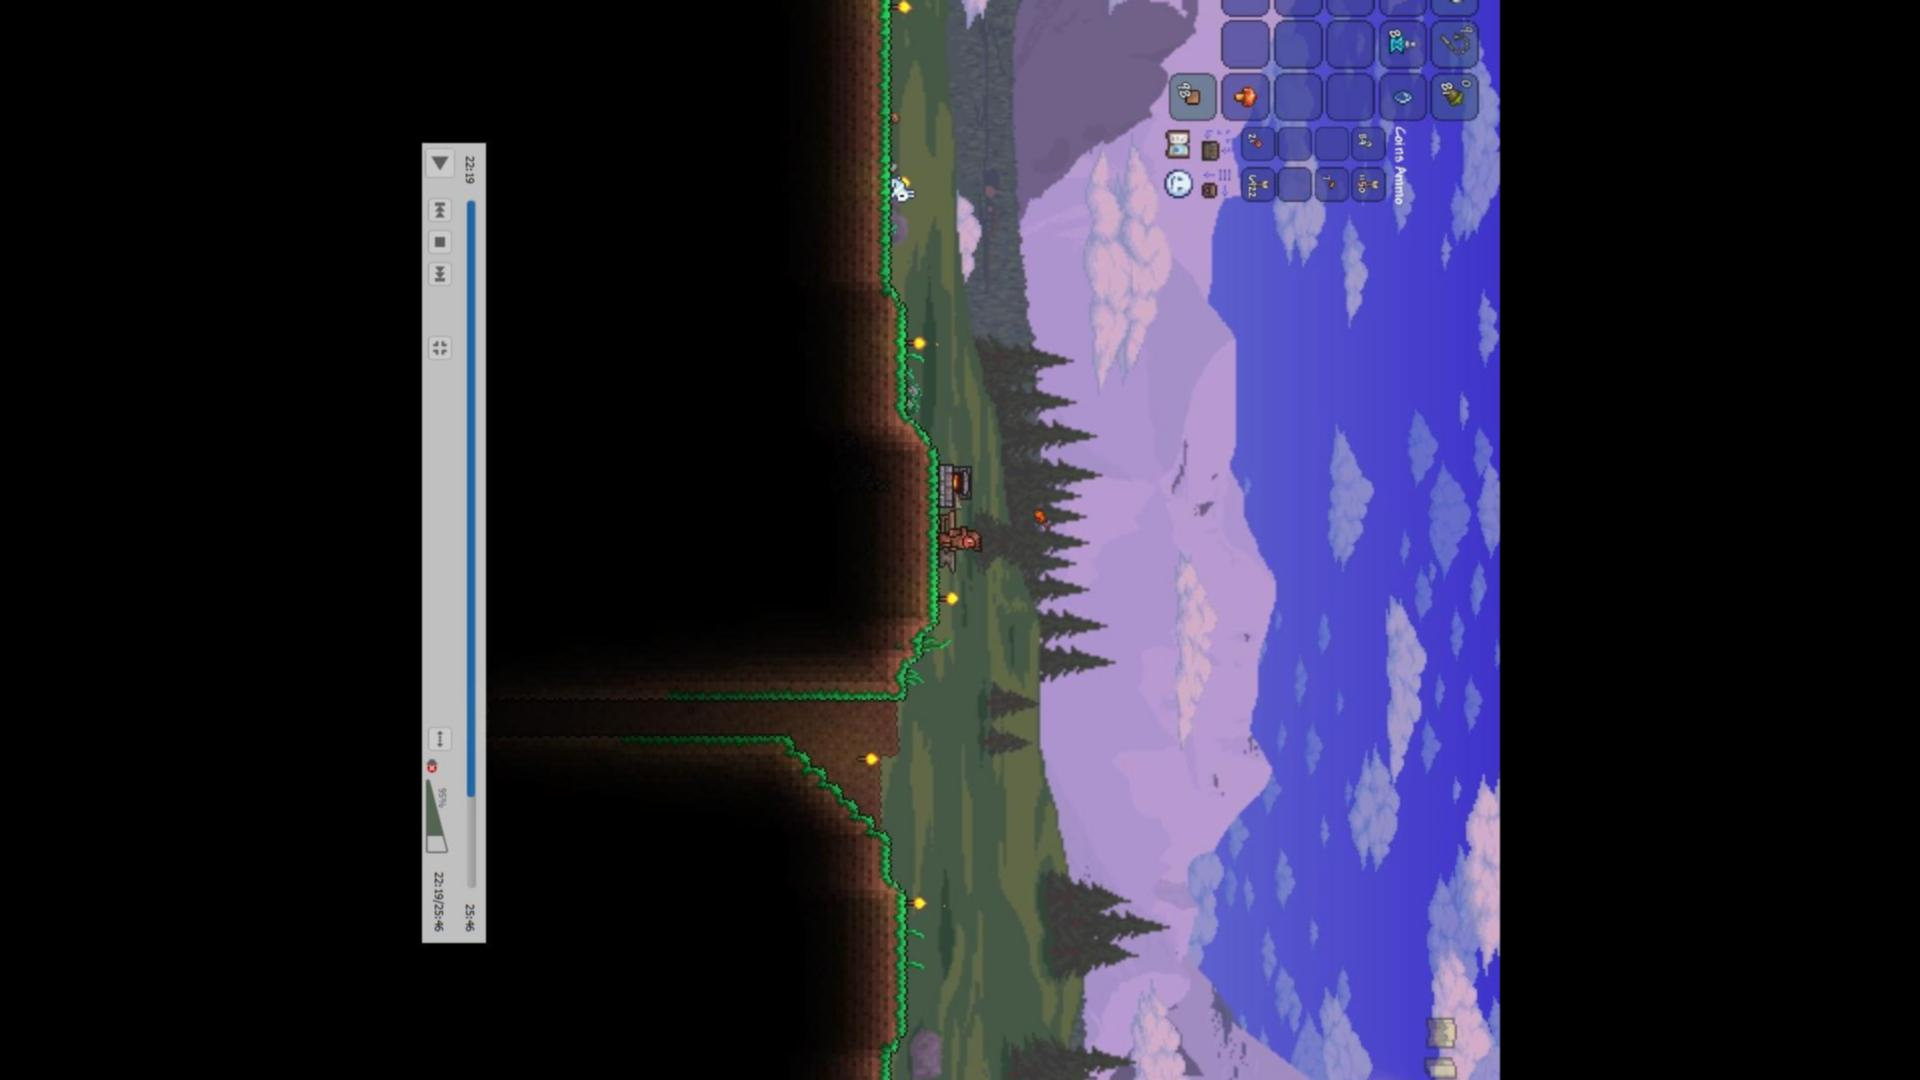anvil: (931, 549, 959, 576)
furnace: (934, 463, 975, 513)
recallP: (1385, 33, 1418, 55)
